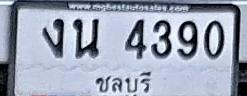0: (204, 20, 224, 58)
3: (151, 18, 171, 57)
4: (125, 18, 146, 58)
9: (178, 20, 198, 58)
A07: (42, 18, 64, 57)
A25: (73, 18, 99, 58)
CBI: (91, 70, 153, 96)
